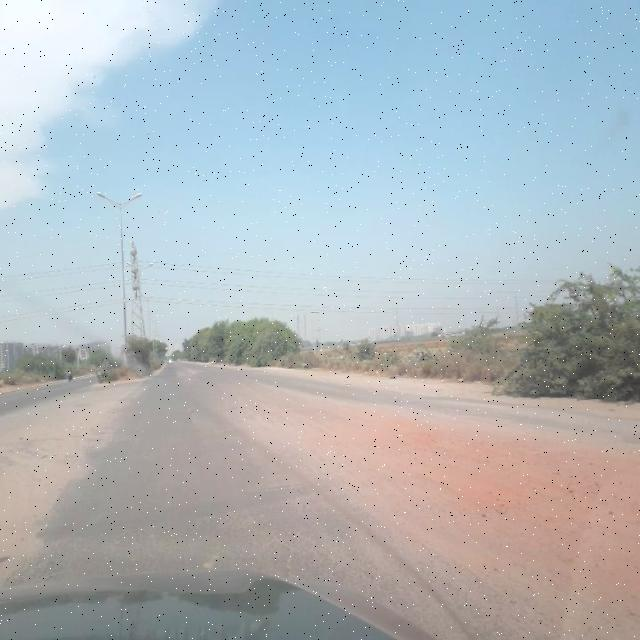D40: (335, 382, 638, 612)
